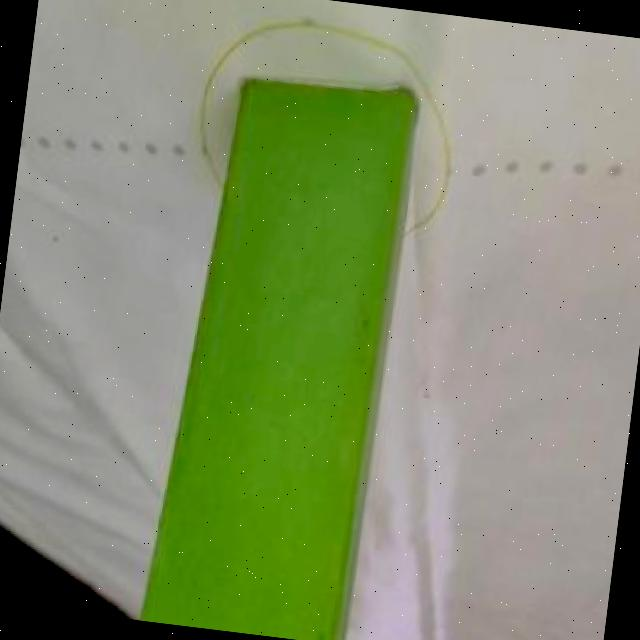greenbox: (134, 60, 419, 640)
